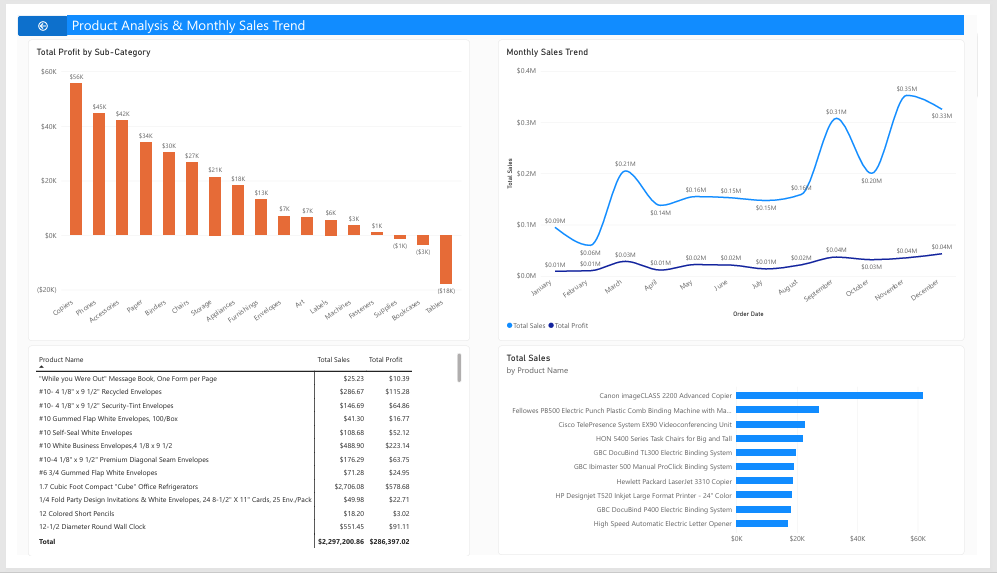

The dashboard page shown, as its layout file describes it:
{"tool":"powerbi","page":{"name":"Page 2","canvas":[1920,1080],"ordinal":1},"visuals":[{"type":"columnChart","title":"Total Profit by Sub-Category","fields":{"Category":["Superstore_Sales.Sub-Category"],"Y":["Superstore_Sales.Total Profit"]},"box":[20.5,47.7,863.6,602.3],"z":0},{"type":"lineChart","title":"Monthly Sales Trend","fields":{"Category":["Superstore_Sales.Order Date.Variation.Date Hierarchy.Year","Superstore_Sales.Order Date.Variation.Date Hierarchy.Quarter","Superstore_Sales.Order Date.Variation.Date Hierarchy.Month","Superstore_Sales.Order Date.Variation.Date Hierarchy.Day"],"Y":["Superstore_Sales.Total Sales"]},"box":[975,47.7,918.2,602.3],"z":1000},{"type":"pivotTable","fields":{"Rows":["Superstore_Sales.Product Name"],"Values":["Superstore_Sales.Total Sales","Superstore_Sales.Total Profit"]},"box":[20.5,659.1,863.6,420.5],"z":2000},{"type":"actionButton","box":[0,0,100,40],"z":3000},{"type":"barChart","fields":{"Category":["Superstore_Sales.Product Name"],"Y":["Superstore_Sales.Total Sales"]},"box":[975,659,918,420],"z":4000}]}

Visuals, with their boxes in screenshot pixels (x1, y1, x2, y2), scaled from the page's 1920x1080 canvas onto the 997x573 screenshot:
"Total Profit by Sub-Category" columnChart: rect(11, 25, 459, 345)
"Monthly Sales Trend" lineChart: rect(506, 25, 983, 345)
pivotTable - Superstore_Sales.Product Name x Superstore_Sales.Total Sales: rect(11, 350, 459, 572)
actionButton: rect(0, 0, 52, 21)
barChart - Superstore_Sales.Product Name x Superstore_Sales.Total Sales: rect(506, 350, 983, 572)
